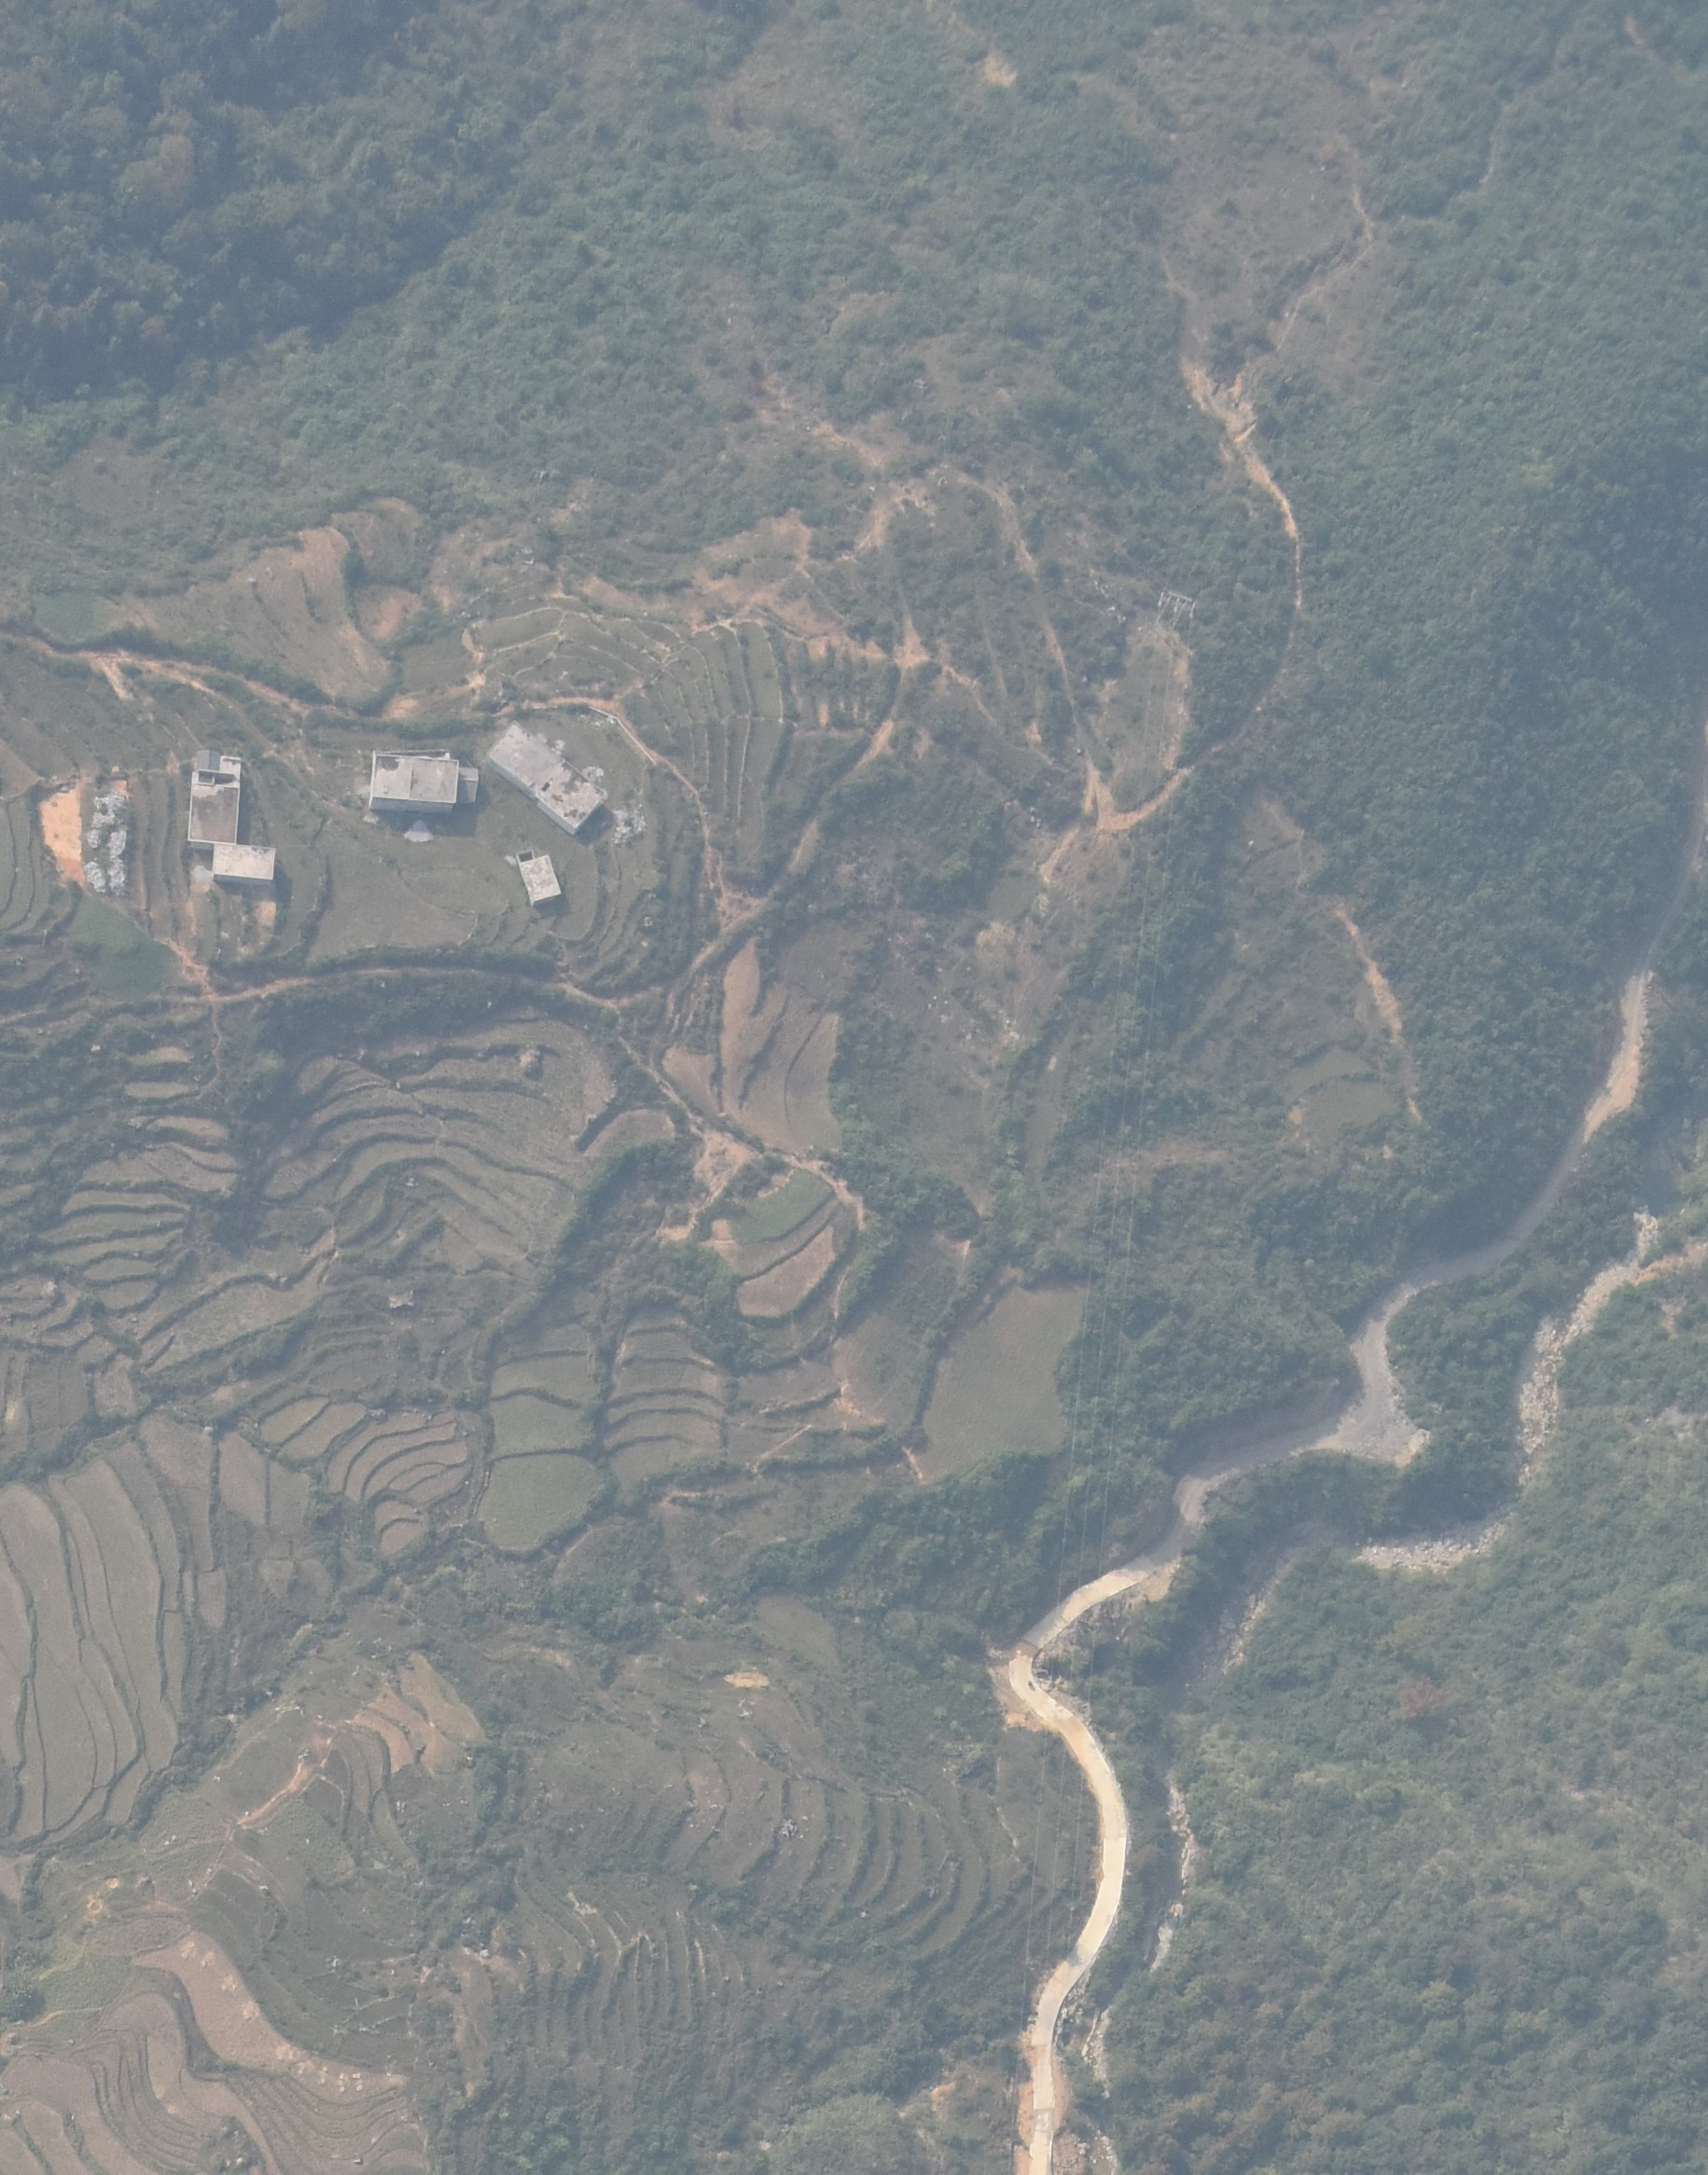building: (483, 722, 605, 834), (368, 753, 479, 816), (185, 755, 243, 843), (210, 841, 277, 882), (517, 851, 563, 902)
cable-tower: (1154, 586, 1195, 633)
